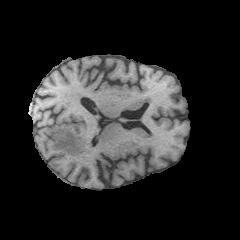glioma: (50, 128, 92, 157)
